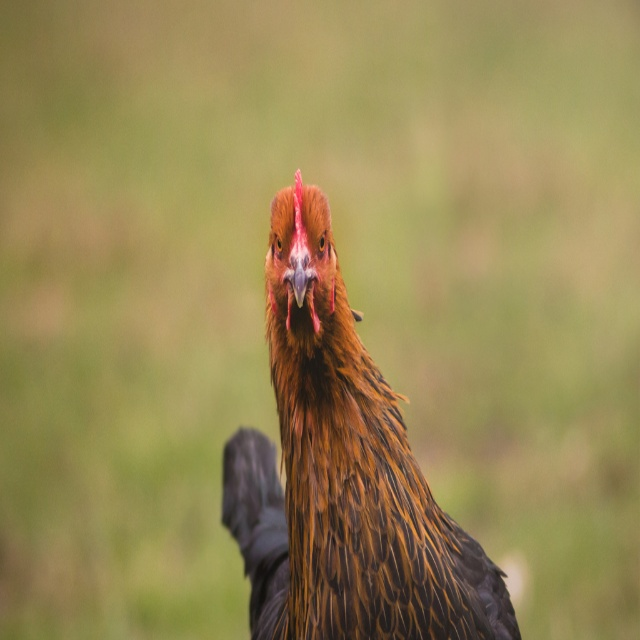Chicken: (220, 169, 524, 640)
